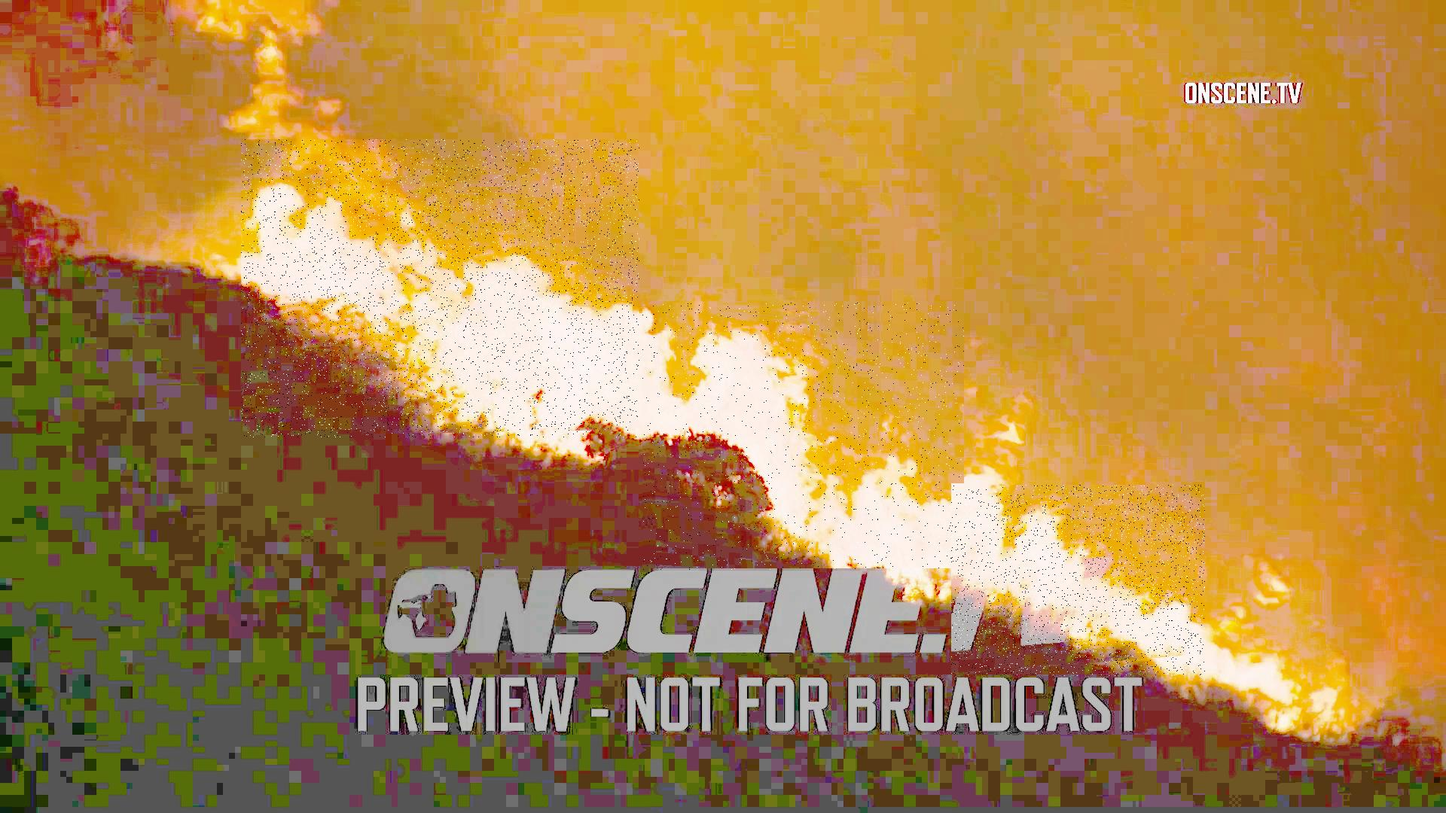fire: (241, 140, 640, 438), (643, 303, 964, 570), (951, 485, 1205, 676)
